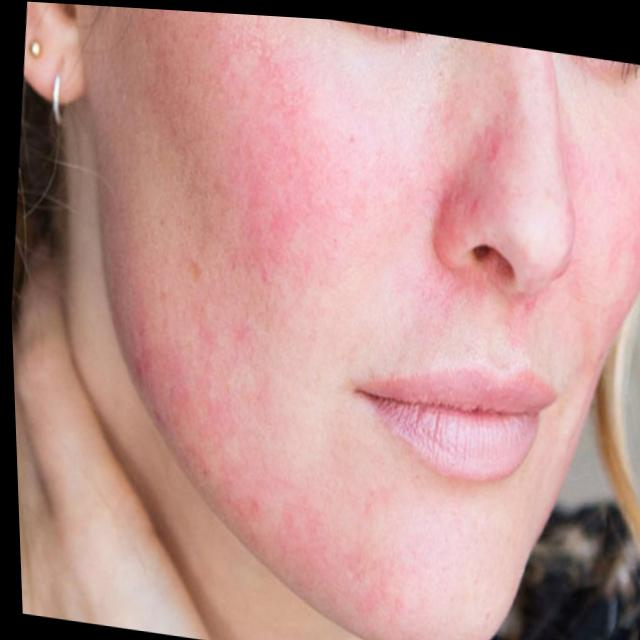skinredness: (126, 6, 353, 336)
